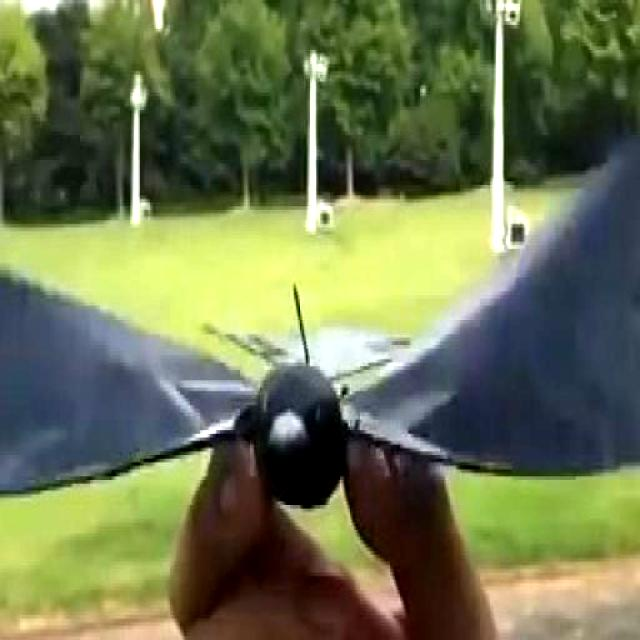airplane: (0, 131, 640, 521)
